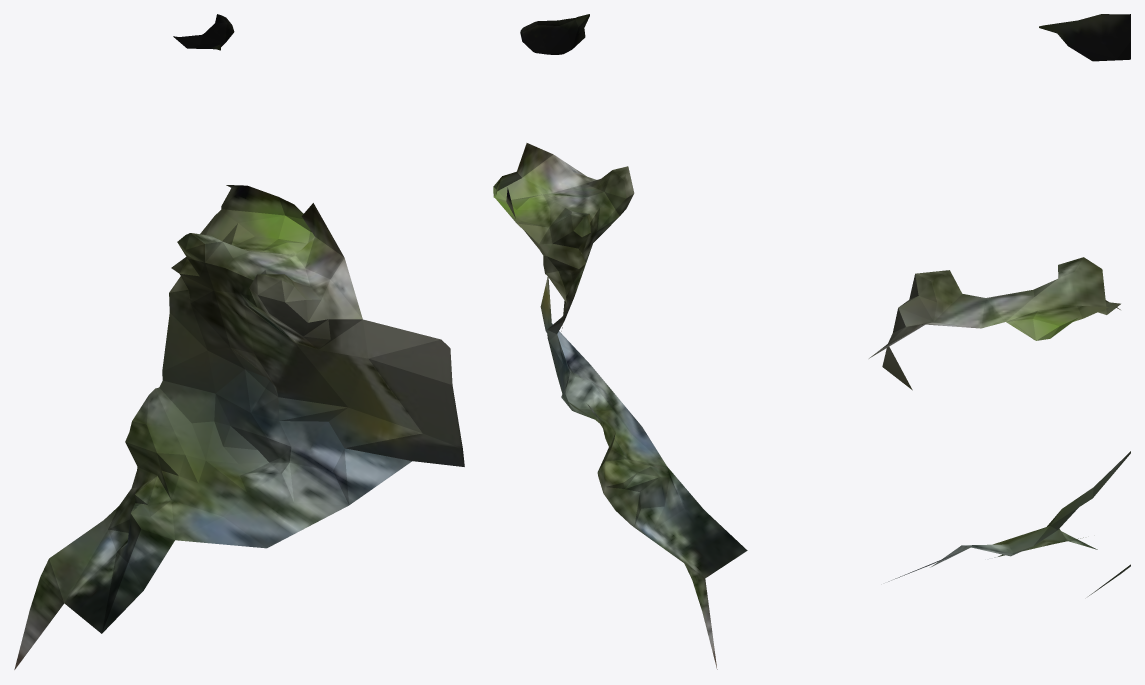
3 views of the same model, side by side, from view 1: azimuth 30°, elevation 25°; view 2: azimuth 150°, elevation 25°; view 3: azimuth 270°, elevation 25° (orthographic). The views are drawn at different scales.
Size of the model in its own units: 3.07 by 5.55 by 2.4.
Materials: 1 (1 with a texture image).
